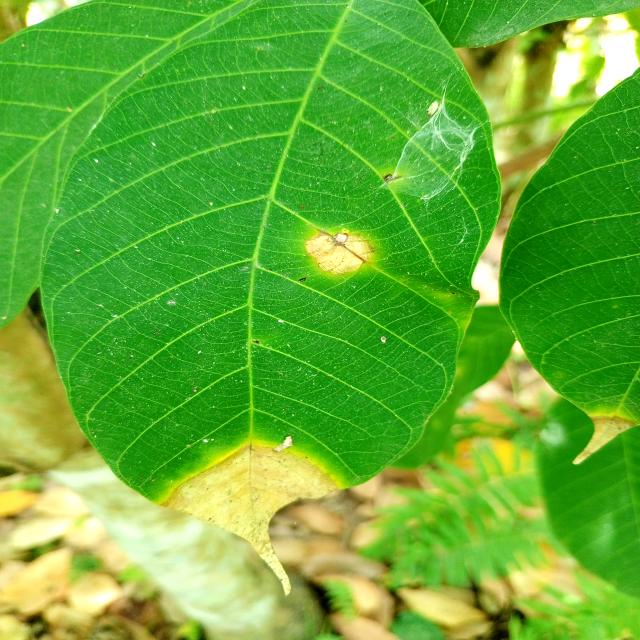Colletotrichum: (299, 278, 306, 282)
Leaf-Blight: (160, 441, 339, 596), (305, 232, 372, 275), (384, 173, 393, 180)
